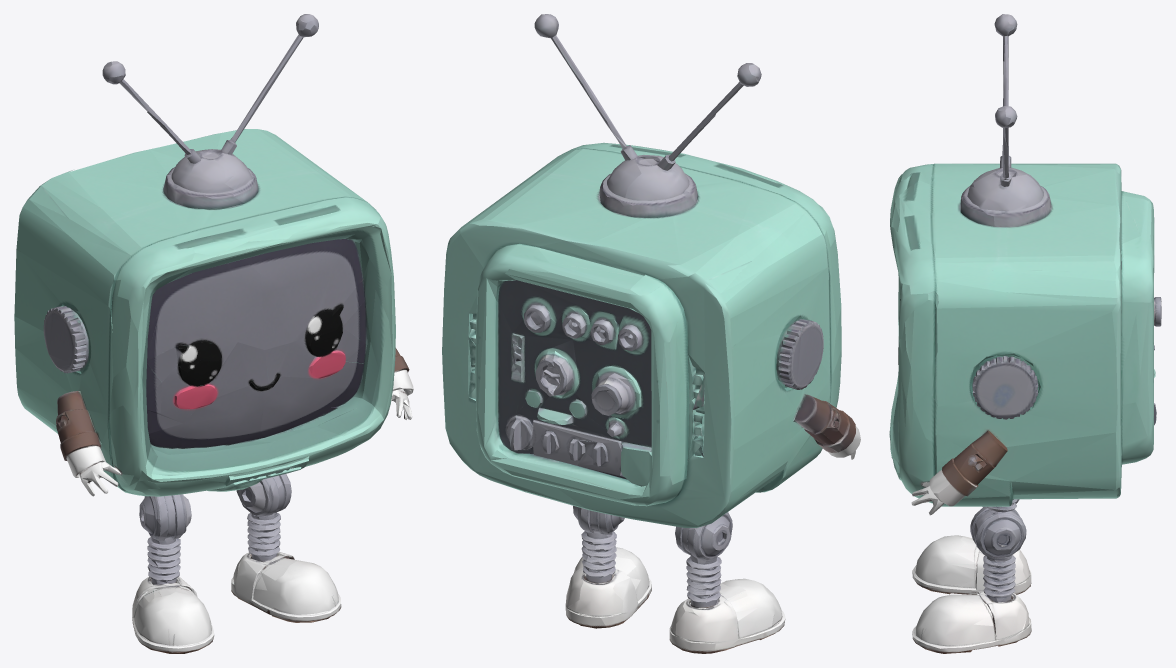
Rendered from GreenBit.fbx.
The picture shows the model from 3 angles, left to right: view 1: azimuth 30°, elevation 25°; view 2: azimuth 150°, elevation 25°; view 3: azimuth 270°, elevation 25°; orthographic projection. The views are drawn at different scales.
Visible parts, largest first — view 1: output_unwrapped; view 2: output_unwrapped; view 3: output_unwrapped.
Part boxes in pixels (<box>): output_unwrapped: <box>14,14,413,653</box>; output_unwrapped: <box>442,14,860,653</box>; output_unwrapped: <box>889,14,1161,653</box>.
Bounding box in the file's own units: 63.54 × 100 × 44.9.
1 material, 1 textured.
